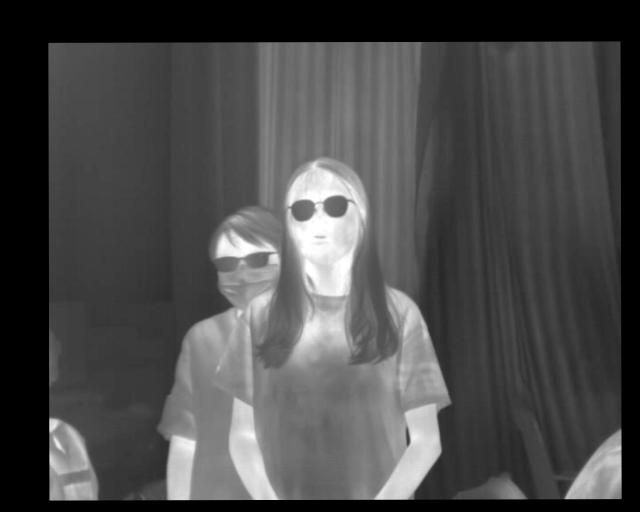face: (286, 157, 367, 267), (208, 205, 281, 311)
